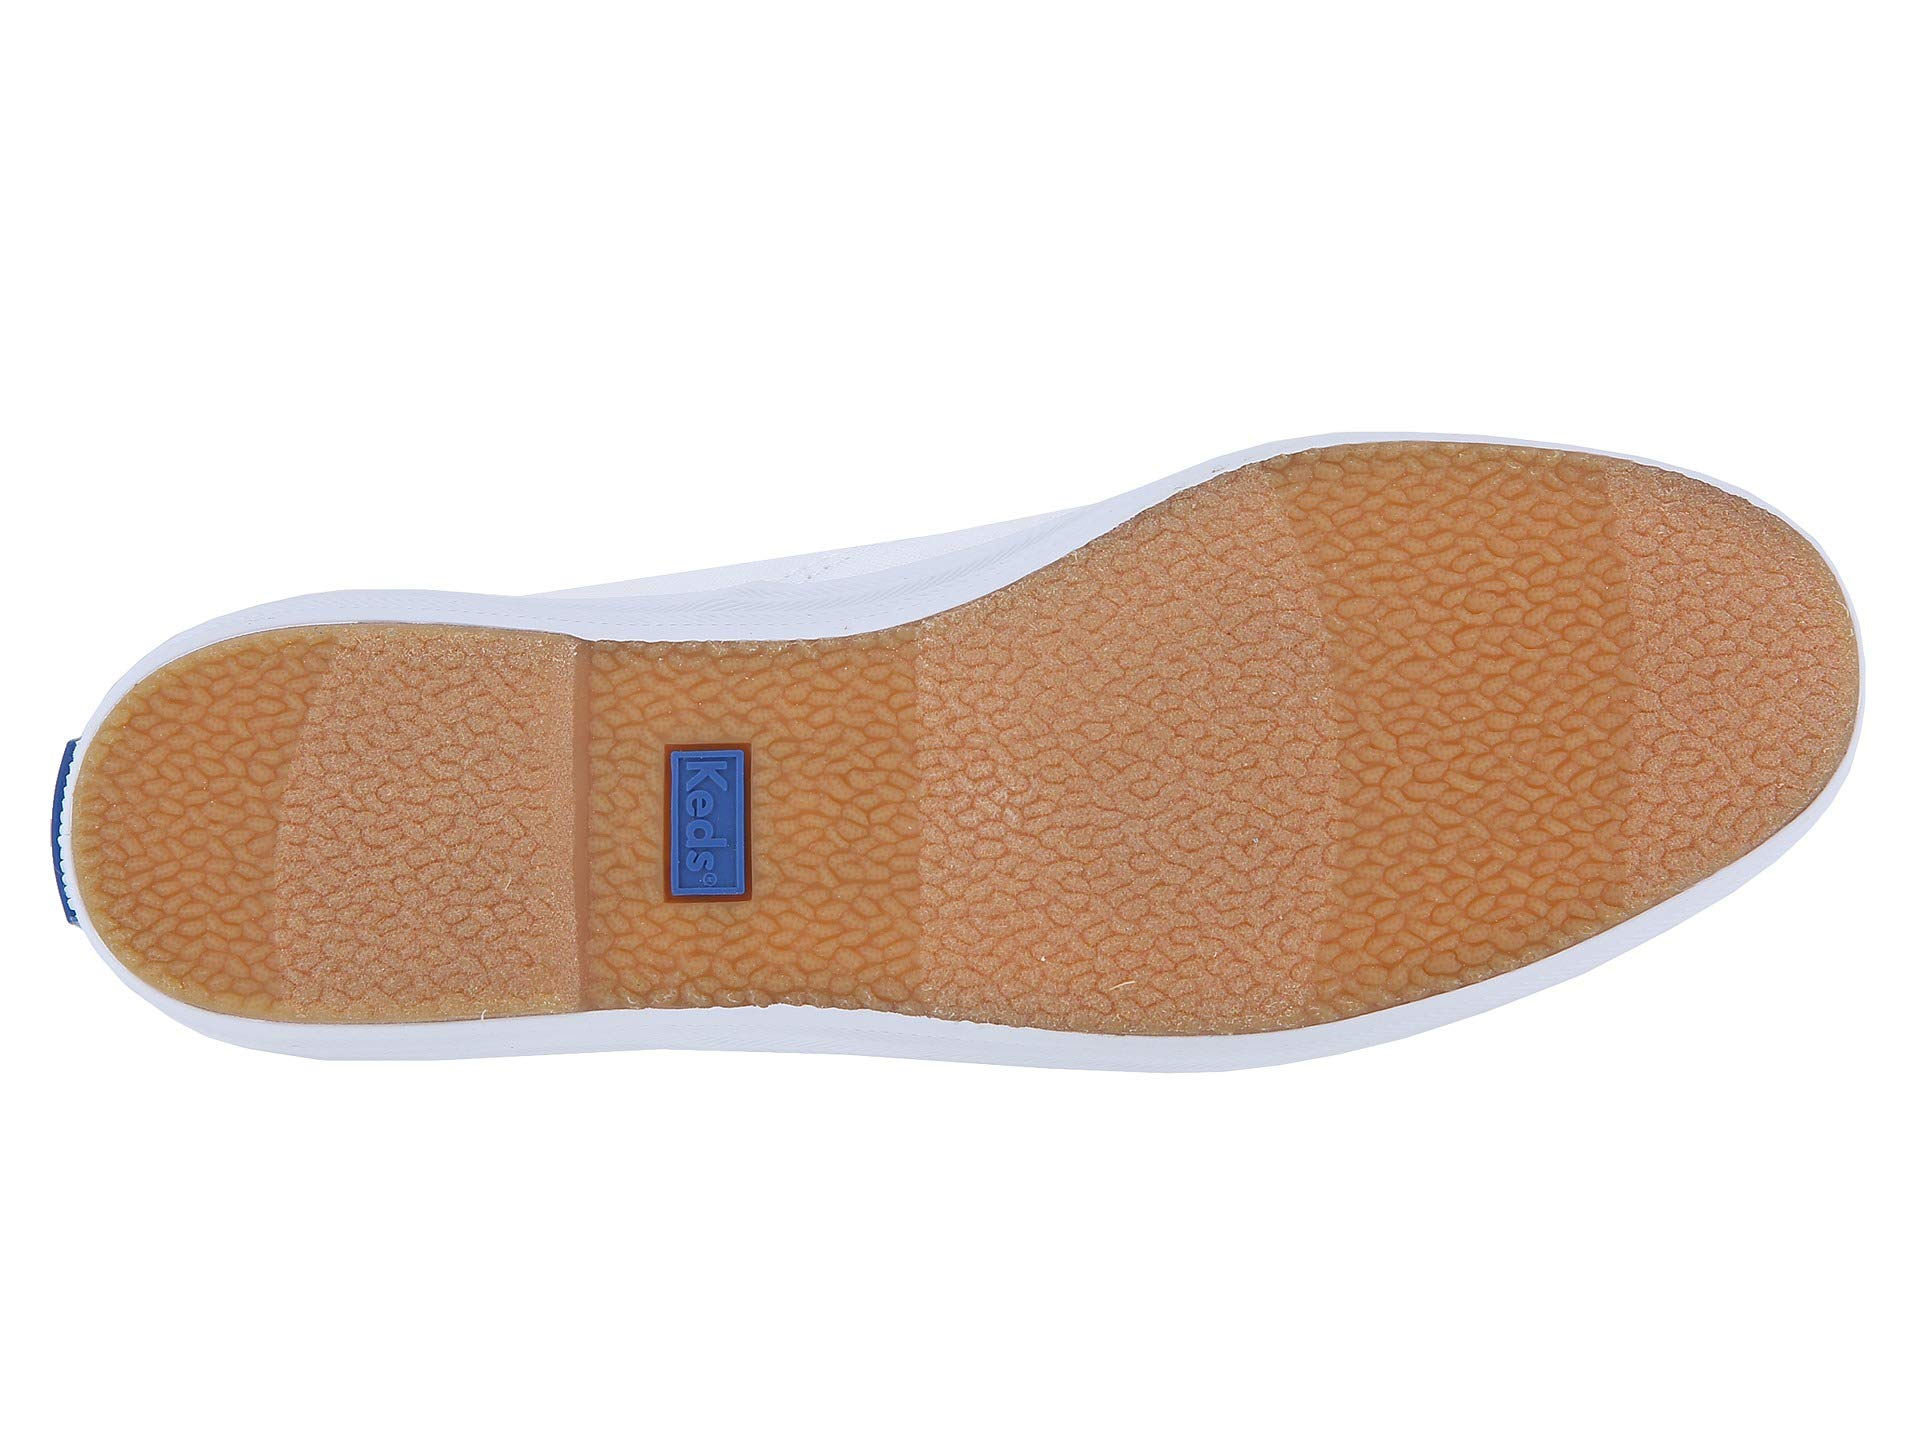exclude: (513, 95, 992, 643)
